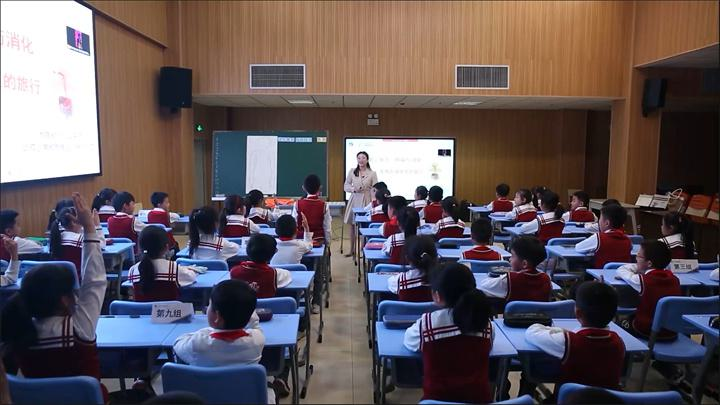hands-up: (16, 195, 112, 354), (273, 208, 324, 267)
listen: (167, 280, 272, 367), (407, 267, 506, 349), (533, 280, 620, 371), (490, 245, 566, 297), (180, 198, 242, 260), (621, 240, 682, 298), (127, 228, 190, 284), (577, 190, 624, 263), (460, 219, 504, 268), (520, 193, 566, 238), (655, 205, 697, 246)
stand: (295, 175, 337, 245)
